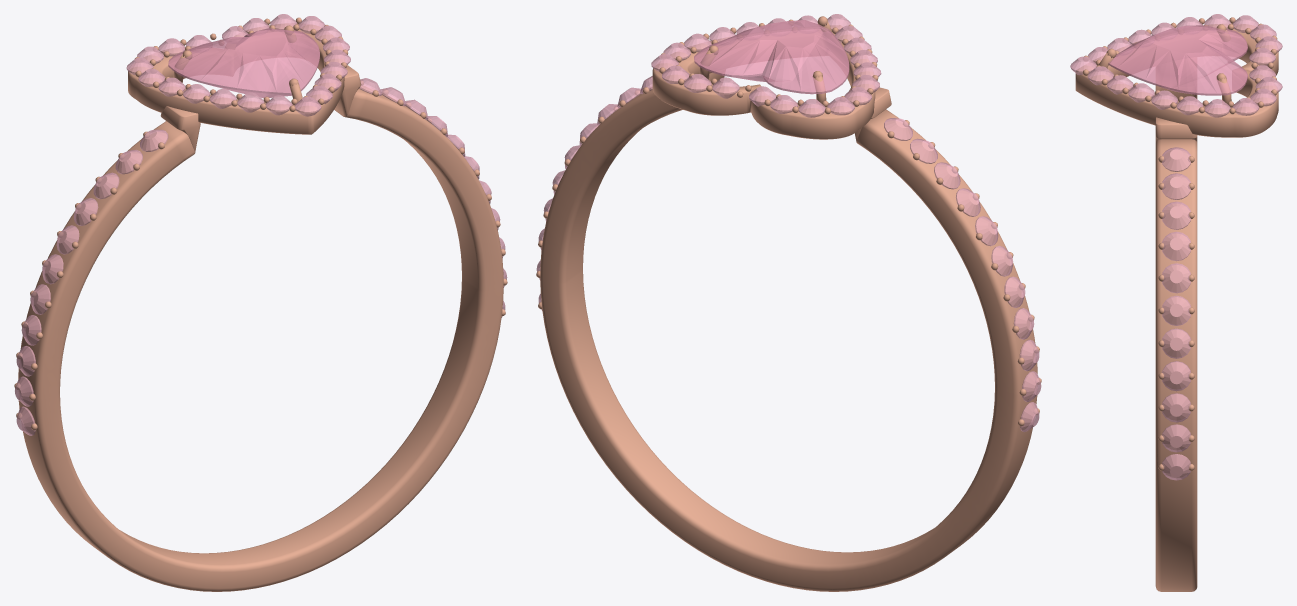
Rendered from J003-display-v02.glb.
The picture shows the model from 3 angles, left to right: view 1: azimuth 30°, elevation 25°; view 2: azimuth 150°, elevation 25°; view 3: azimuth 270°, elevation 25°; orthographic projection. The views are drawn at different scales.
Parts seen in each view (by area): view 1: J003_Metal, J003_AccentStones, J003_MainStone; view 2: J003_Metal, J003_AccentStones, J003_MainStone; view 3: J003_Metal, J003_AccentStones, J003_MainStone.
Part boxes in pixels (x1,y1,x2,y2): J003_Metal: (14,17,507,591); J003_AccentStones: (15,14,507,435); J003_MainStone: (168,28,319,98); J003_Metal: (536,16,1041,591); J003_AccentStones: (536,14,1041,432); J003_MainStone: (694,20,849,94); J003_Metal: (1075,17,1278,591); J003_AccentStones: (1070,14,1282,480); J003_MainStone: (1108,25,1247,95).
Bounding box in the file's own units: 0.0185 × 0.0195 × 0.00711.
